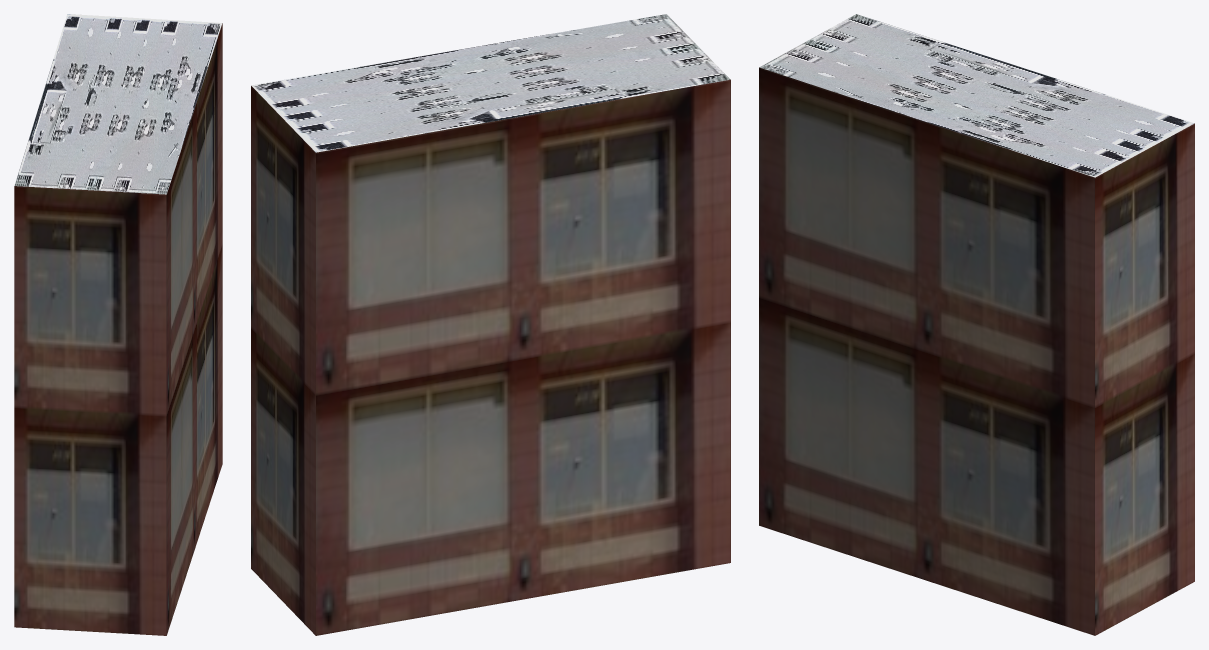
The model's file is ResTex__193.fbx.
3 renders of one model, left to right at view 1: azimuth 30°, elevation 25°; view 2: azimuth 150°, elevation 25°; view 3: azimuth 270°, elevation 25°, orthographic. The views are drawn at different scales.
Visible parts, largest first — view 1: CityEngineMaterial_13_m, CityEngineMaterial_8_m; view 2: CityEngineMaterial_13_m, CityEngineMaterial_8_m; view 3: CityEngineMaterial_13_m, CityEngineMaterial_8_m.
Boxes of the visible parts, x1,y1,x2,y2 form: CityEngineMaterial_13_m: (14,23,222,635); CityEngineMaterial_8_m: (14,14,222,194); CityEngineMaterial_13_m: (251,79,730,635); CityEngineMaterial_8_m: (251,14,730,152); CityEngineMaterial_13_m: (759,67,1194,635); CityEngineMaterial_8_m: (759,14,1194,177).
Bounding box in the file's own units: 4.6 × 6 × 5.17.
2 materials, 2 textured.
